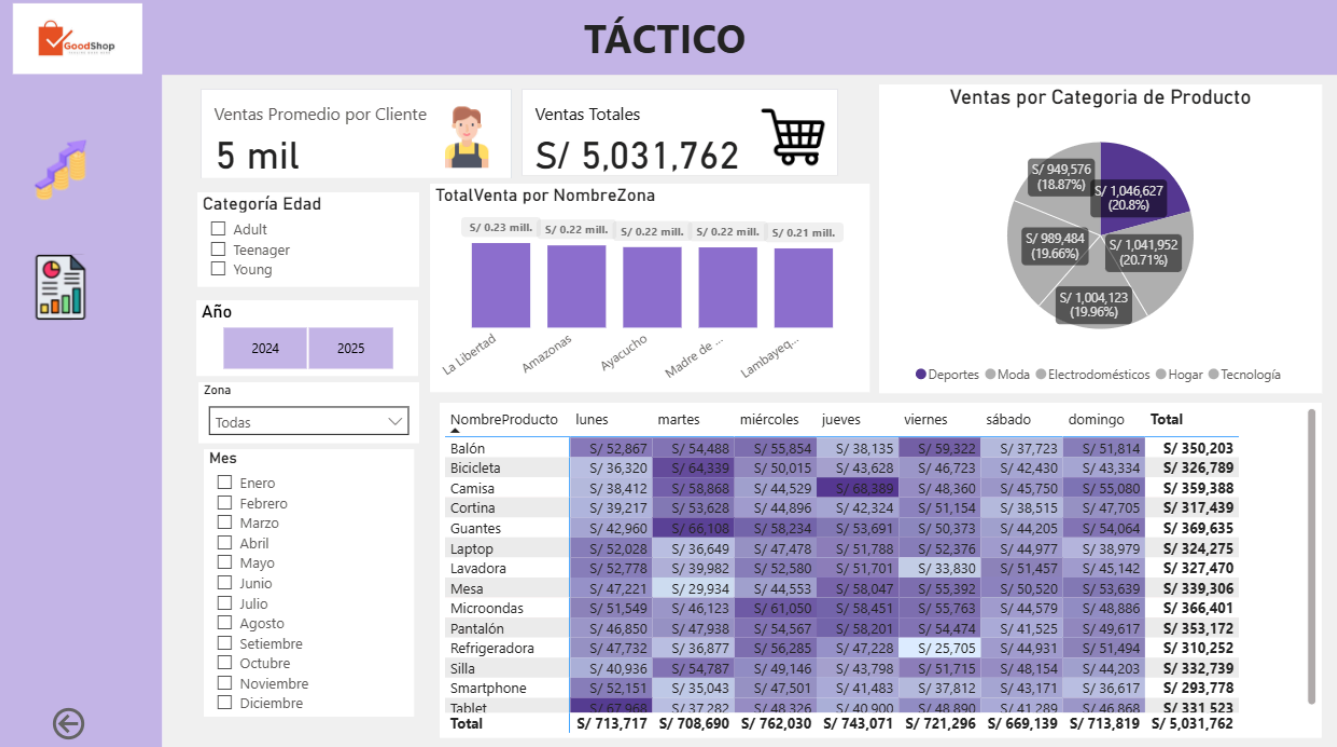

This screenshot's page, from the dashboard's own definition file:
{"tool":"powerbi","page":{"name":"TÁCTICO","canvas":[1280,720],"ordinal":2},"visuals":[{"type":"shape","box":[161.7,76.7,1118.3,642.6],"z":0},{"type":"shape","box":[0,0,1280,76.8],"z":1000},{"type":"shape","box":[0,0,161.5,719.8],"z":2000},{"type":"image","box":[8.8,3.9,143,76.8],"z":3000},{"type":"textbox","box":[556.4,11.7,285,61.3],"z":4000},{"type":"cardVisual","title":"Ventas Totales","fields":{"Data":["MEDIDAS.TotalVenta"]},"box":[498.3,85.9,309,91.1],"z":5000},{"type":"cardVisual","title":"Ventas Totales","fields":{"Data":["MEDIDAS.% Participación Vendedor"]},"box":[193.4,85.9,304.9,94.1],"z":6000},{"type":"pieChart","title":"Ventas por Categoria de Producto","fields":{"Category":["Categorias.NombreCategoria"],"Y":["MEDIDAS.TotalVenta"]},"box":[842.1,85.9,420.5,292.6],"z":7000},{"type":"slicer","title":"Año","fields":{"Values":["CALENDARIO.Año"]},"box":[193.4,290.6,210.8,71.6],"z":9000},{"type":"pivotTable","fields":{"Rows":["Productos.NombreProducto"],"Columns":["CALENDARIO.Día"],"Values":["MEDIDAS.TotalVenta"]},"box":[424.6,387.8,838,318.2],"z":10000},{"type":"clusteredColumnChart","fields":{"Y":["MEDIDAS.TotalVenta"],"Category":["Zonas.NombreZona"]},"box":[415.4,180.1,418.5,198.5],"z":11000},{"type":"slicer","title":"Categoría Edad","fields":{"Values":["Clientes.CategoriaEdad"]},"box":[194.4,188.3,210.8,90],"z":12000},{"type":"actionButton","box":[29.7,132,78.8,69.6],"z":13000},{"type":"actionButton","box":[29.7,243.5,78.8,69.6],"z":13001},{"type":"actionButton","box":[52.2,672.2,100.3,39.9],"z":13002},{"type":"slicer","title":"Zona","fields":{"Values":["Zonas.NombreZona"]},"box":[195.4,368.3,209.8,58.3],"z":13003},{"type":"slicer","title":"Mes","fields":{"Values":["CALENDARIO.Mes"]},"box":[200.5,431.8,199.5,253.7],"z":13004}]}

Visuals, with their boxes in screenshot pixels (x1, y1, x2, y2), scaled from the page's 1280x720 canvas onto the 1337x747 screenshot:
shape: Rect(169, 80, 1336, 746)
shape: Rect(0, 0, 1336, 80)
shape: Rect(0, 0, 169, 746)
image: Rect(9, 4, 159, 84)
textbox: Rect(581, 12, 879, 76)
"Ventas Totales" cardVisual: Rect(520, 89, 843, 184)
"Ventas Totales" cardVisual: Rect(202, 89, 520, 187)
"Ventas por Categoria de Producto" pieChart: Rect(880, 89, 1319, 393)
"Año" slicer: Rect(202, 301, 422, 376)
pivotTable - Productos.NombreProducto x CALENDARIO.Día: Rect(444, 402, 1319, 732)
clusteredColumnChart - MEDIDAS.TotalVenta x Zonas.NombreZona: Rect(434, 187, 871, 393)
"Categoría Edad" slicer: Rect(203, 195, 423, 289)
actionButton: Rect(31, 137, 113, 209)
actionButton: Rect(31, 253, 113, 325)
actionButton: Rect(55, 697, 159, 739)
"Zona" slicer: Rect(204, 382, 423, 443)
"Mes" slicer: Rect(209, 448, 418, 711)
